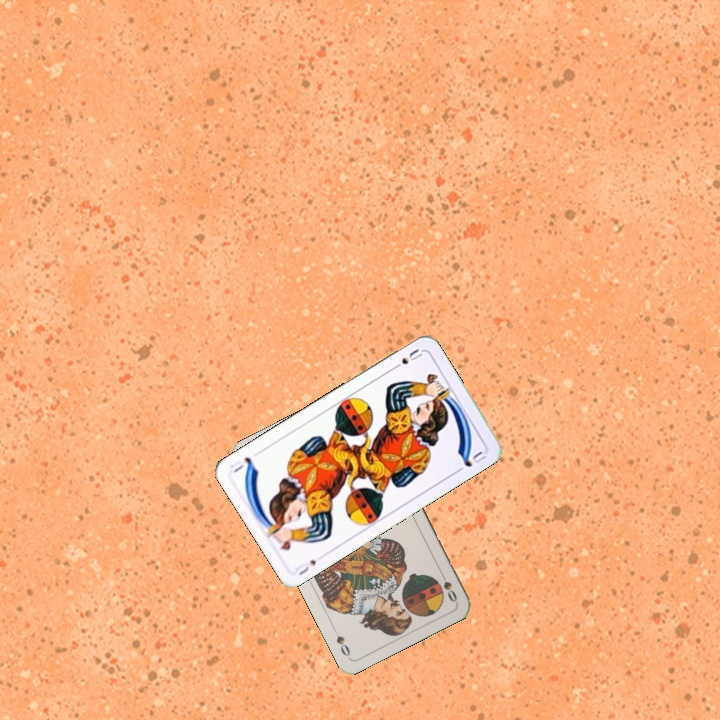SO: (435, 567, 460, 605)
SU: (388, 345, 425, 373), (291, 555, 318, 578)
